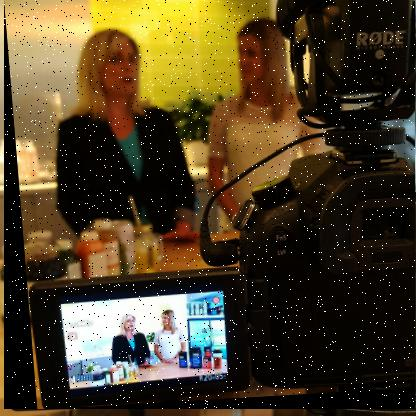Camera: (5, 1, 416, 411)
